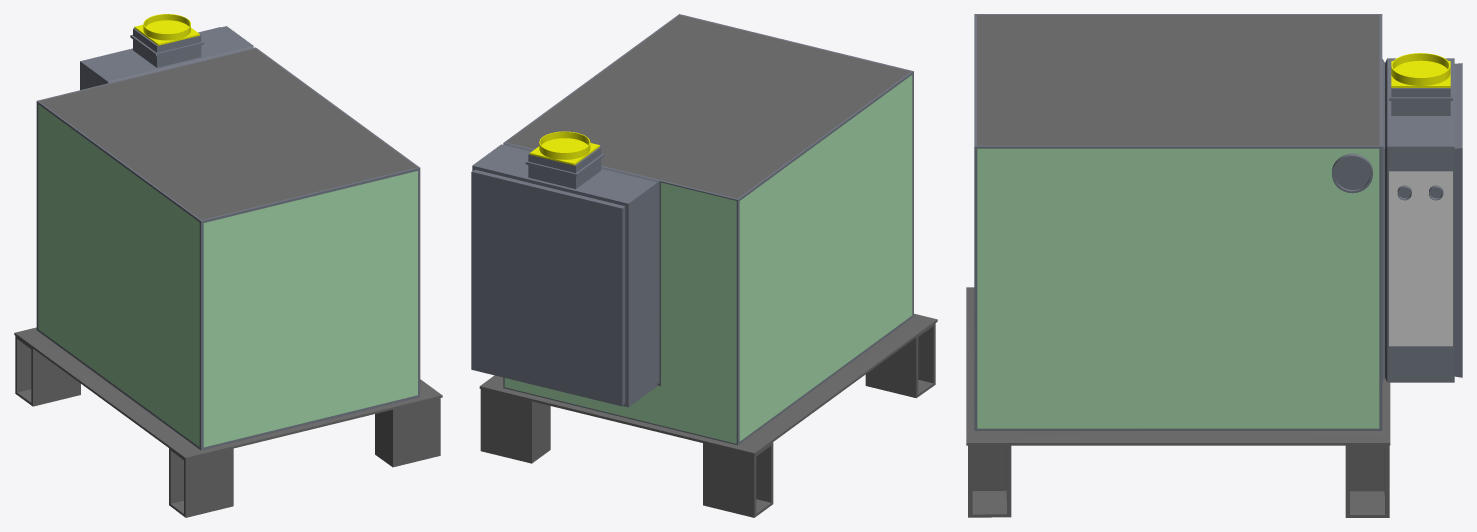
The model's file is GeneradorIzquierdo2.fbx.
The picture shows the model from 3 angles, left to right: view 1: azimuth 30°, elevation 25°; view 2: azimuth 150°, elevation 25°; view 3: azimuth 270°, elevation 25°; orthographic projection. The views are drawn at different scales.
Visible parts, largest first — view 1: Cube; view 2: Cube; view 3: Cube.
Boxes of the visible parts, x1=… form: Cube: x1=14, y1=14, x2=442, y2=517; Cube: x1=471, y1=14, x2=937, y2=517; Cube: x1=966, y1=14, x2=1462, y2=517.
Size of the model in its own units: 234 by 279 by 316.
